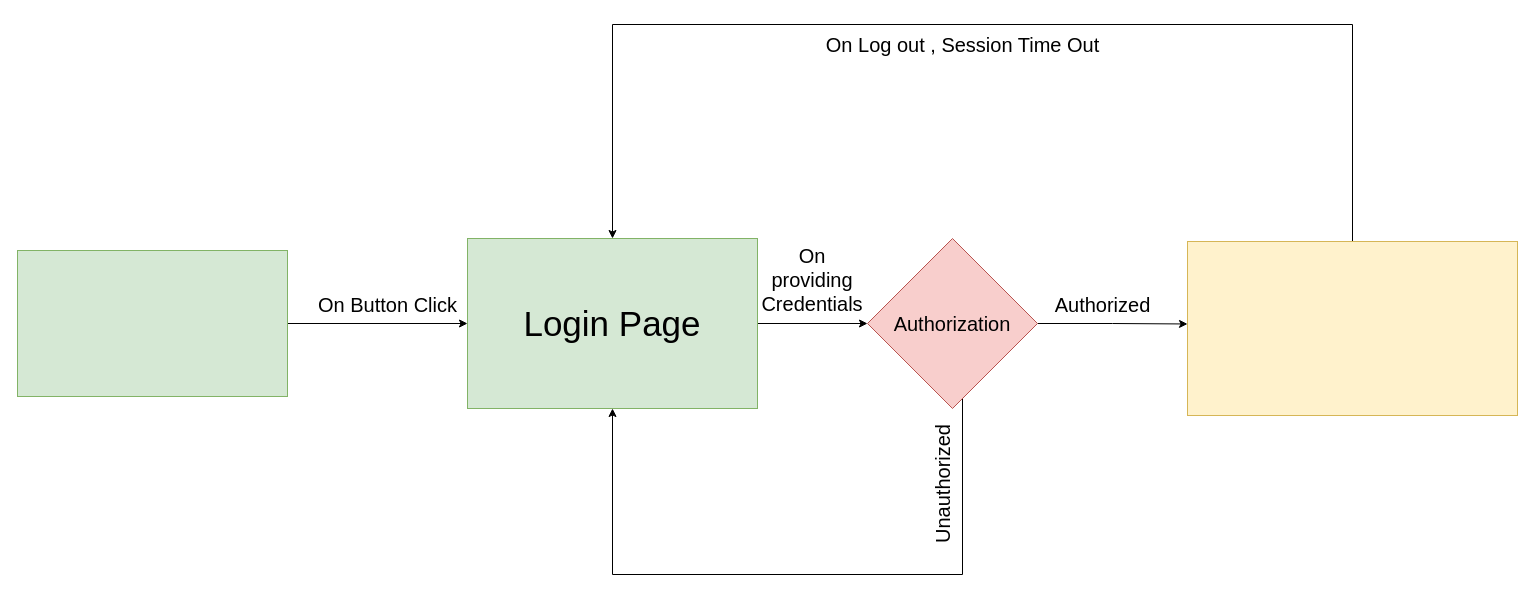
The diagram is 1535 pixels wide and 600 high, and some of its shapes have lost their labels. The shapes that lost their labels are listed below. From the top down, each one's box as (x1, y1, x2, y2) in pixels, then its label:
(16, 250, 288, 396): Home Page
(1186, 240, 1518, 416): Dashboard
